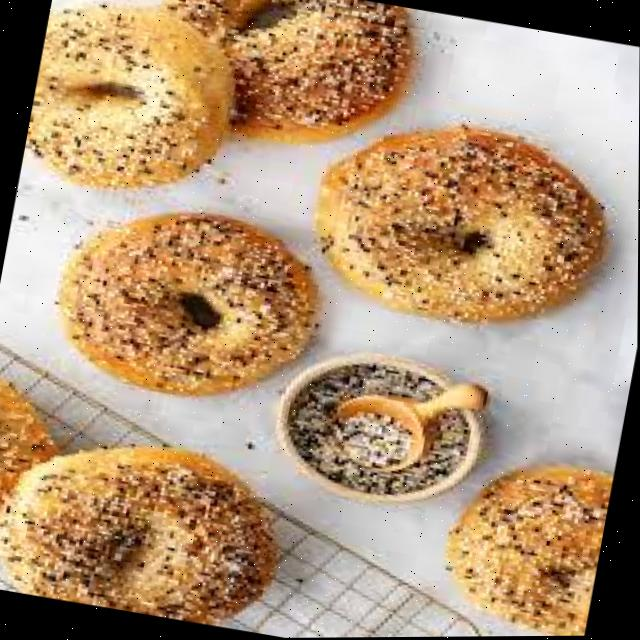Bagel: (315, 125, 603, 319), (0, 446, 280, 625), (59, 213, 313, 391), (29, 5, 228, 187), (162, 0, 416, 141), (446, 467, 613, 637)
